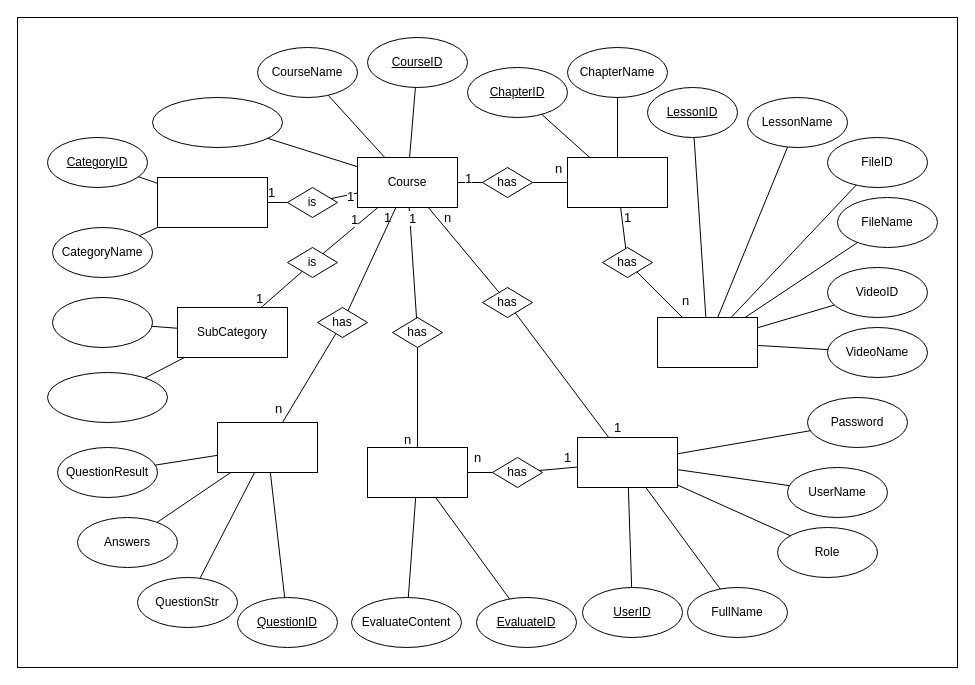
The diagram is 975 pixels wide and 685 high, and some of its shapes have lost their labels. Here are the shapes that lost their labels. From the top down, the centre of each, then its label:
At [217,122]: "CourseDescription".
At [212,202]: "Category".
At [617,182]: "Chapter".
At [102,322]: "SubCategoryID".
At [707,342]: "Lesson".
At [107,397]: "SubCategoryName".
At [267,447]: "Question".
At [627,462]: "User".
At [417,472]: "Evaluate".
